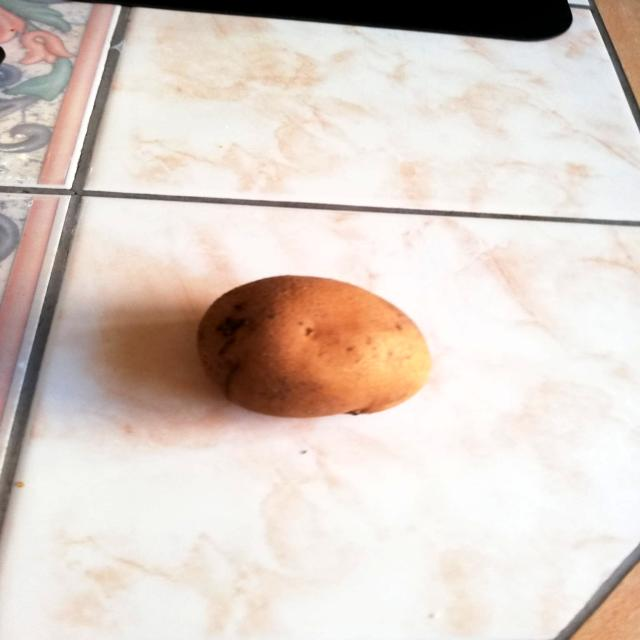potato: (190, 271, 440, 425)
